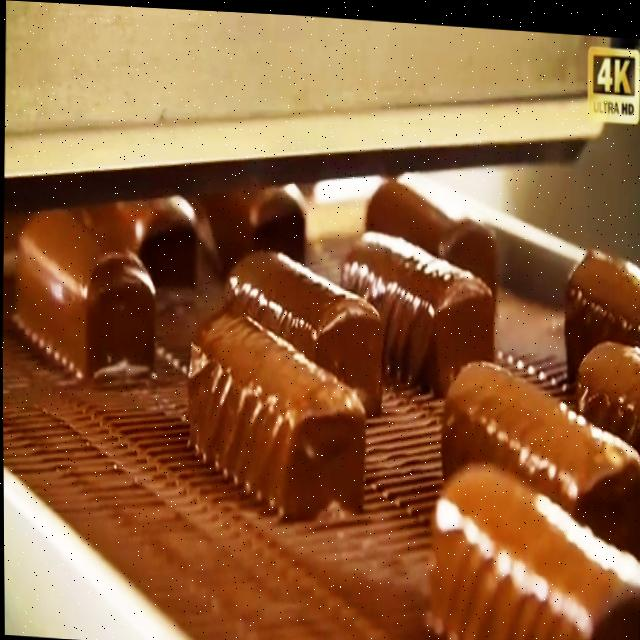Choco: (181, 295, 368, 520), (436, 347, 640, 550), (422, 451, 640, 640), (10, 192, 160, 386), (221, 238, 386, 410), (336, 218, 495, 391), (370, 163, 503, 263), (106, 183, 208, 289), (565, 218, 640, 344), (214, 180, 319, 259), (558, 326, 640, 426)
